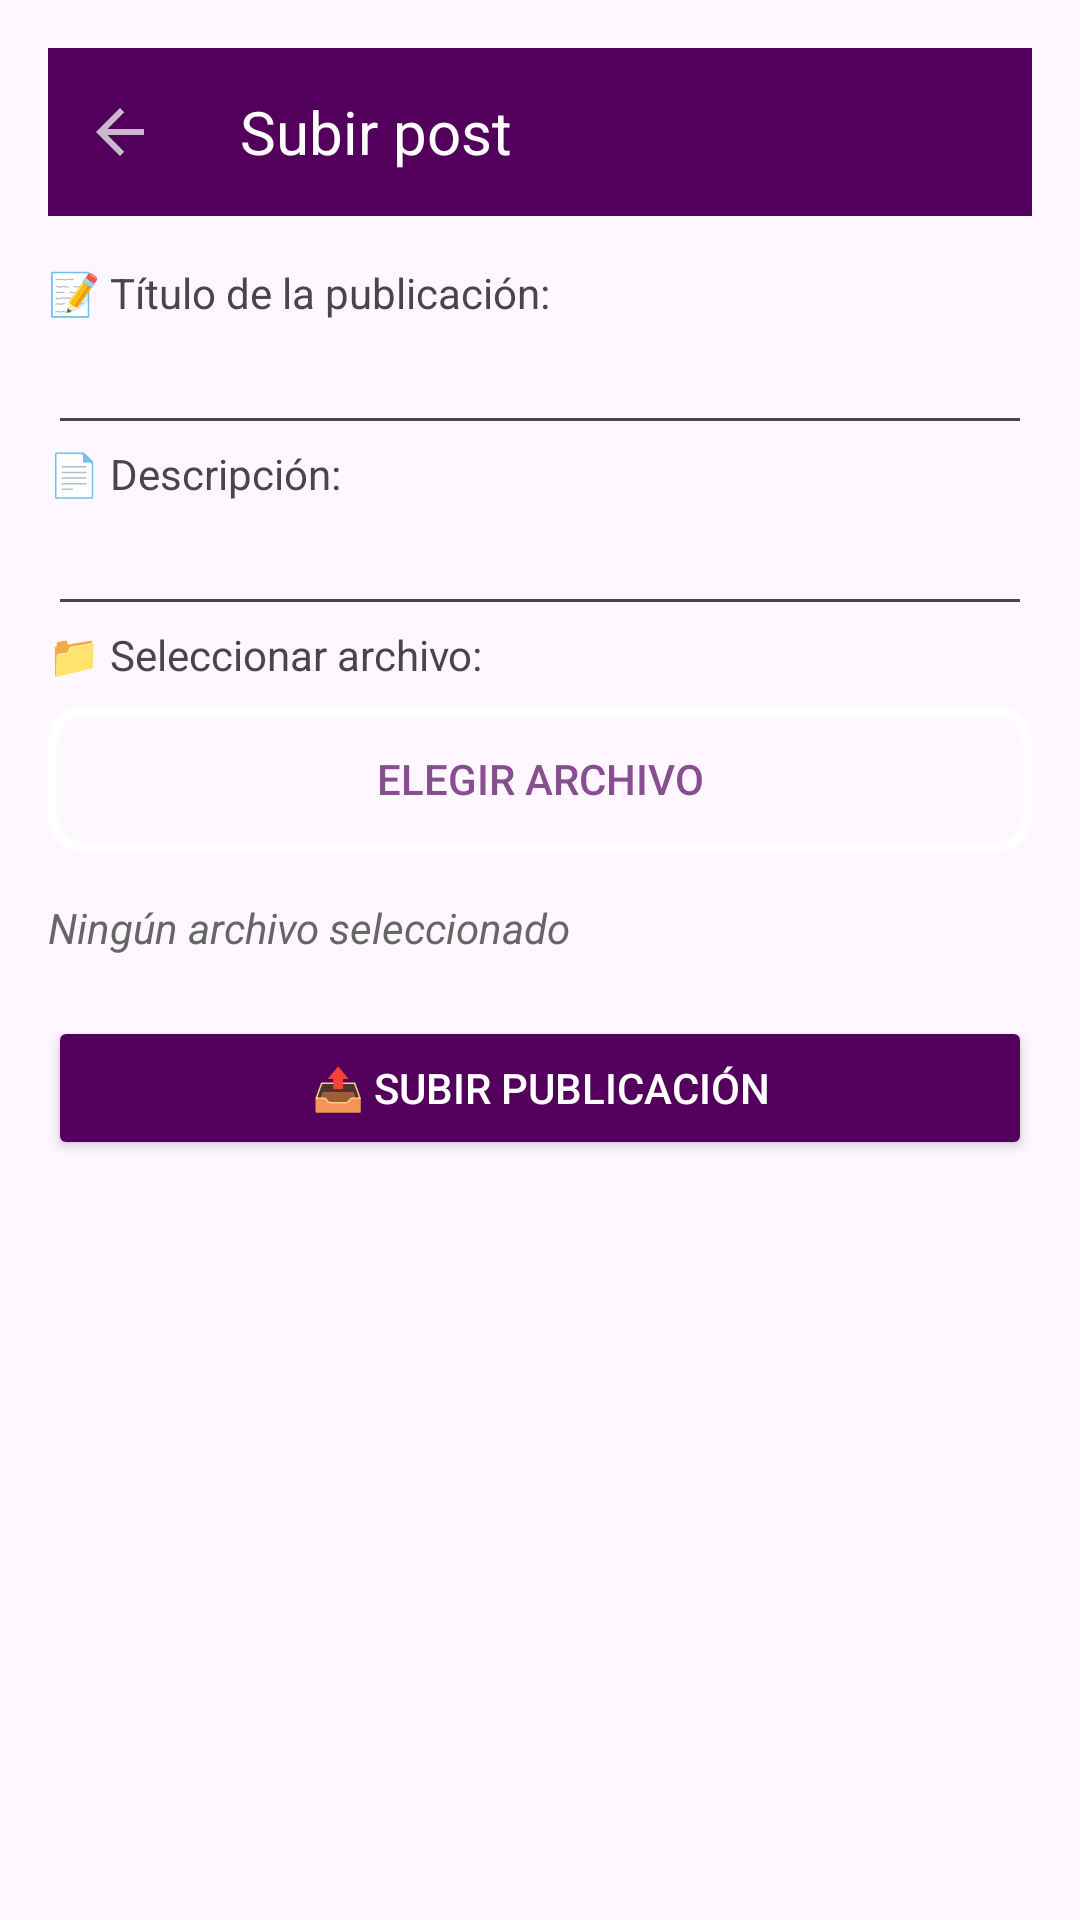

Named icons in this screenshot (1080*1920) and their bounding boxes, [left=x1, top=y1, right=x2, bottom=y2]:
Regresar: [left=96, top=108, right=144, bottom=156]
